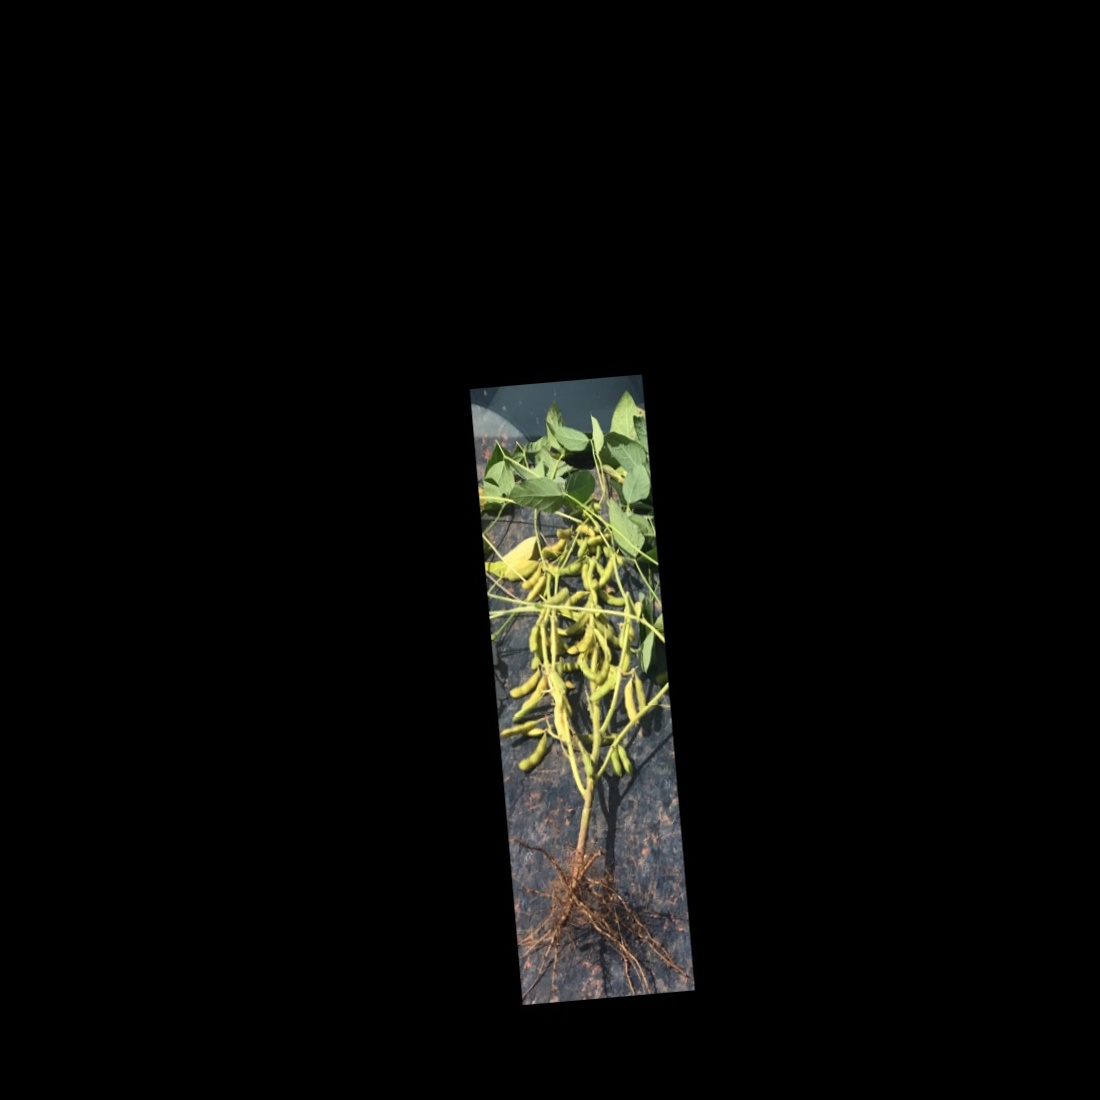pod: (508, 678, 551, 724), (513, 730, 552, 776), (586, 665, 624, 704), (505, 667, 543, 702), (498, 714, 547, 737), (594, 552, 618, 593), (593, 585, 630, 612), (523, 572, 552, 602), (615, 739, 635, 780), (519, 564, 545, 591), (634, 672, 650, 714), (594, 657, 613, 686), (579, 747, 595, 778), (608, 743, 622, 780)
soy: (475, 401, 692, 995)
